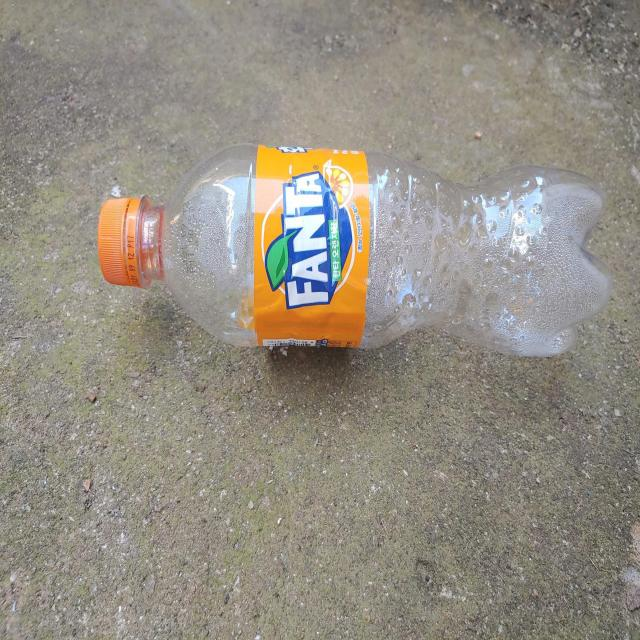plastic: (97, 144, 613, 356)
